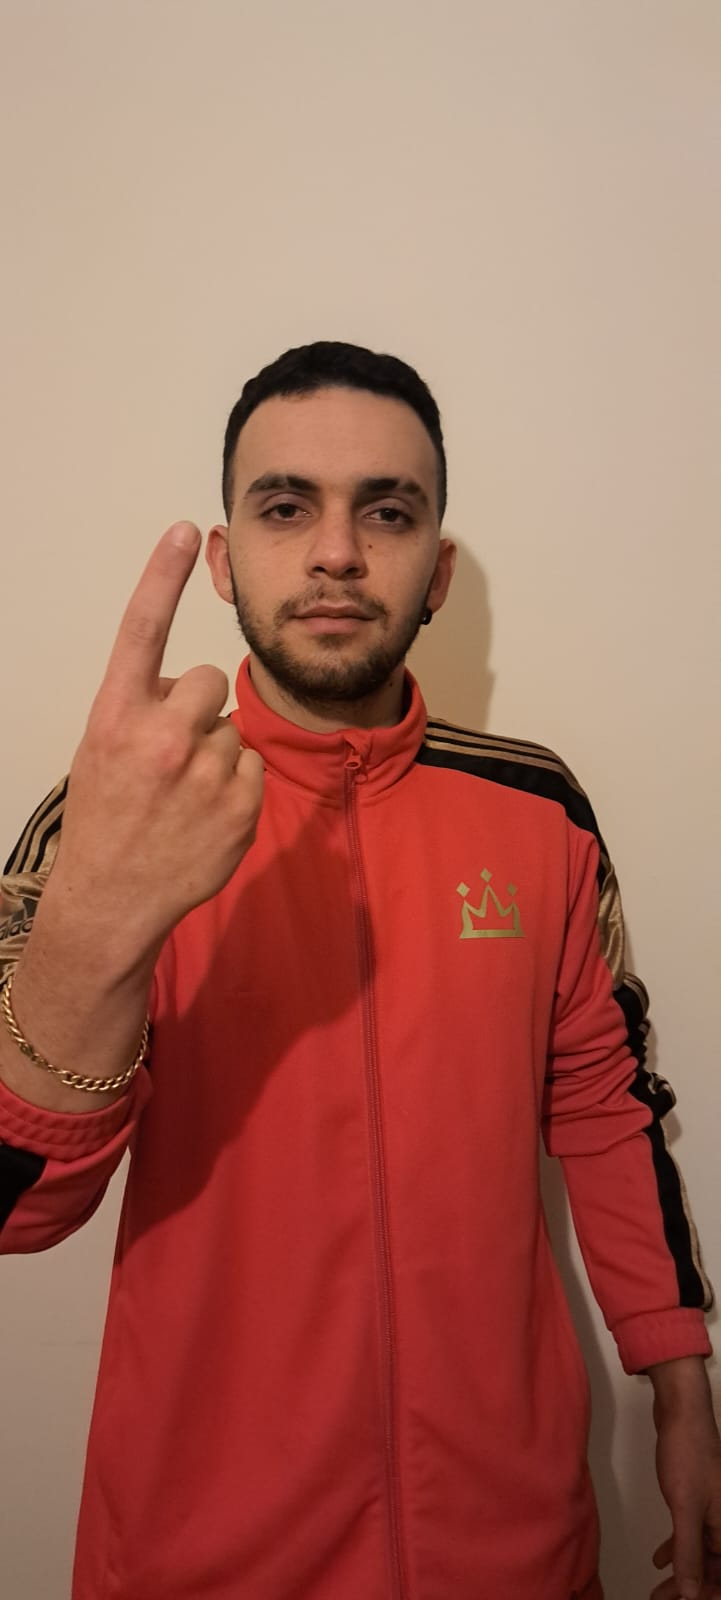joke: (62, 504, 267, 940)
